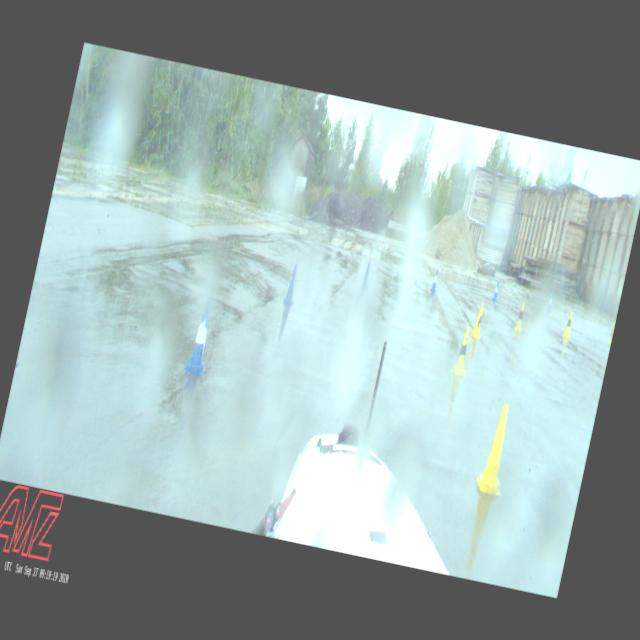blue_cone: (182, 298, 218, 377), (281, 262, 301, 308), (358, 260, 372, 292), (429, 268, 440, 294), (490, 278, 501, 302), (546, 290, 556, 314)
yellow_cone: (474, 401, 518, 496), (450, 323, 476, 378), (470, 302, 488, 339), (513, 300, 527, 332), (562, 311, 575, 338), (606, 319, 616, 344)
